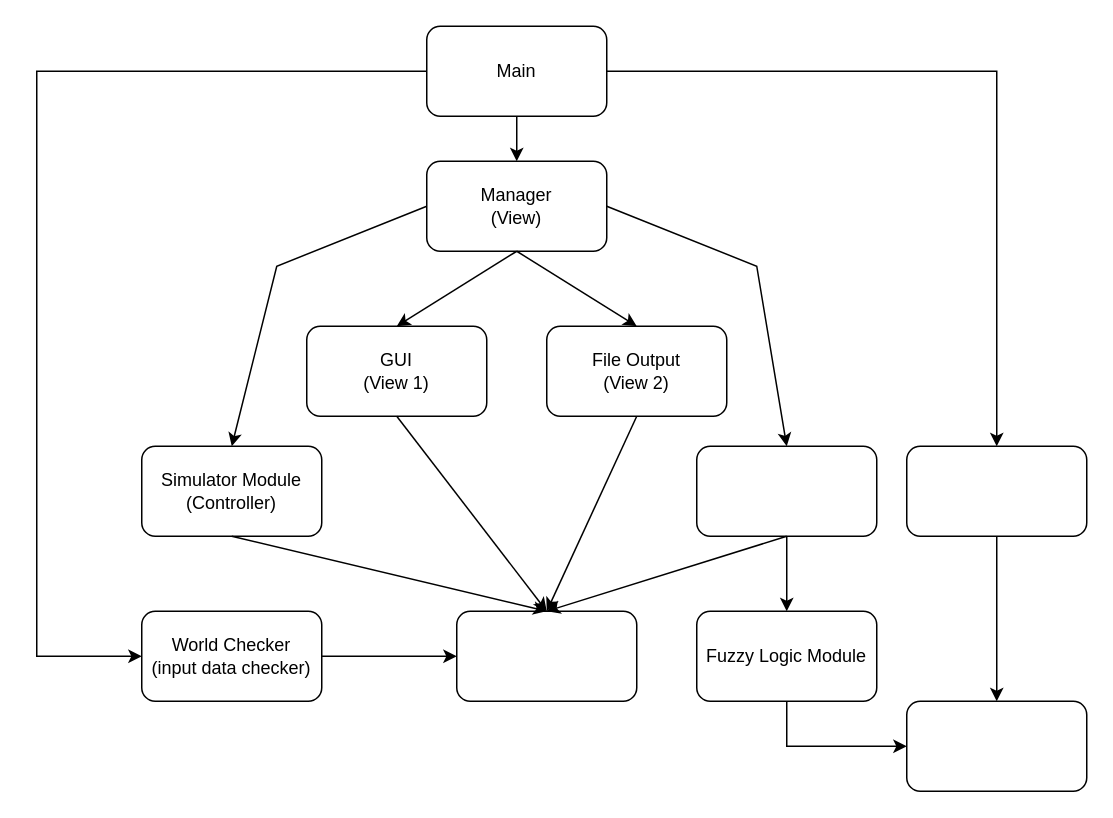
Some shapes in this 1113 by 818 pixel diagram are drawn without their labels. The centre of each missing label's shape, as x and y in pixels:
Config Reader: the point at 996,490
Controller Module (Controller): the point at 786,490
Hardware Hiding Module: the point at 996,745
World Module (Model): the point at 546,655
